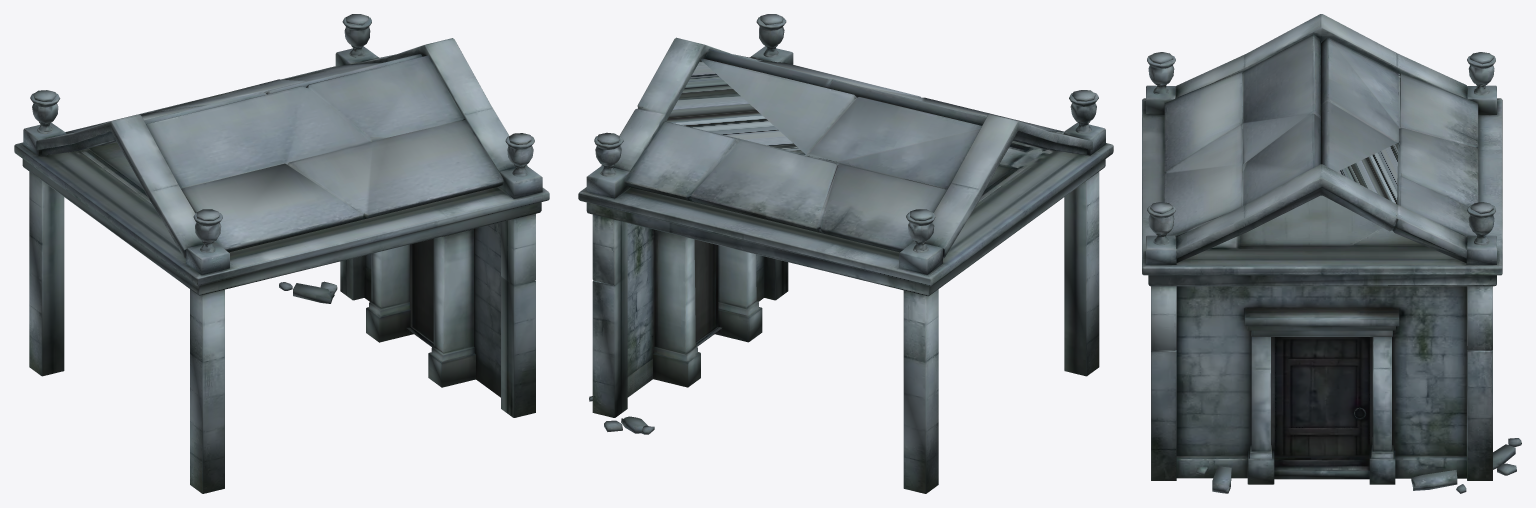
The model's file is crypt.glb.
3 views of the same model, side by side, from view 1: azimuth 30°, elevation 25°; view 2: azimuth 150°, elevation 25°; view 3: azimuth 270°, elevation 25° (orthographic).
Parts seen in each view (by area): view 1: model; view 2: model; view 3: model.
Boxes of the visible parts, box(x1,y1,x2,y2) form: model: box(14, 14, 549, 493); model: box(578, 14, 1113, 493); model: box(1142, 14, 1521, 493).
Bounding box in the file's own units: 1.21 × 1 × 1.11.
Materials: 1 (1 with a texture image).
